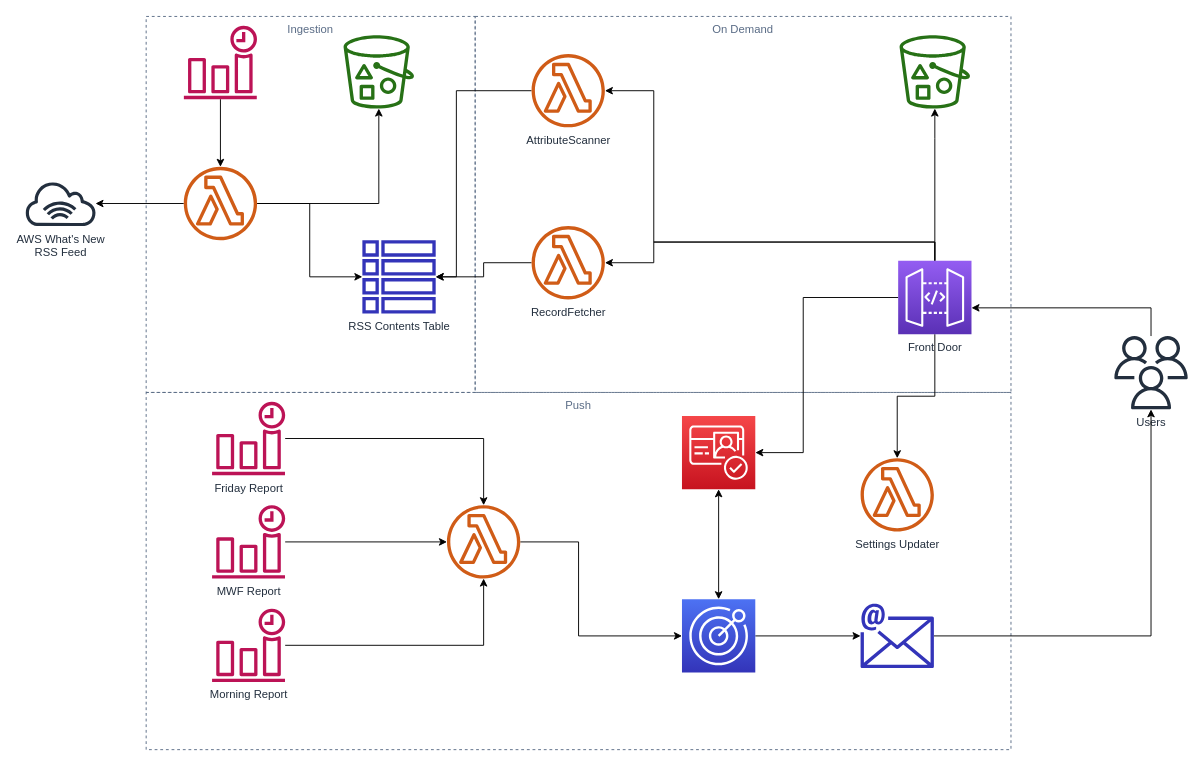
The diagram is 1203 pixels wide and 766 high, and some of its shapes have lost their labels. The centre of each missing label's shape, as x and y in pixels:
5 minute timer: the point at 220,62
Campaign Creator: the point at 483,541
Cognito User Pool: the point at 718,452
Longterm RSS Storage: the point at 378,71
Pinpoint: the point at 718,635
RSS Reader: the point at 220,203
Static Assets: the point at 934,71
